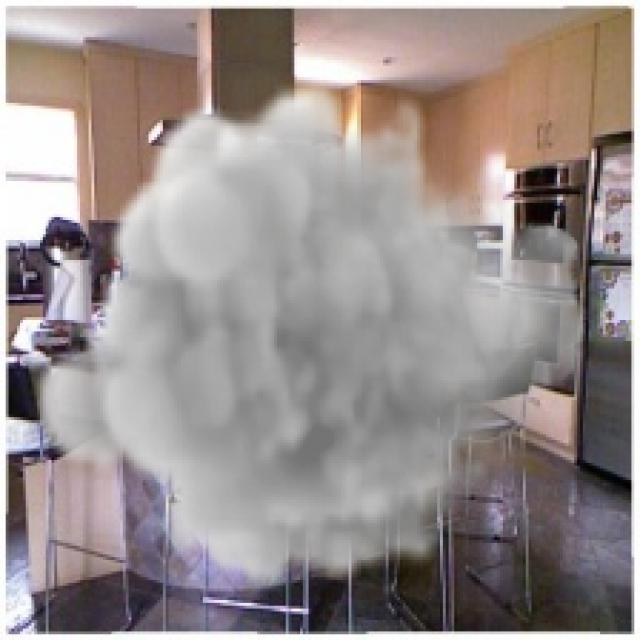smoke: (29, 77, 588, 592)
